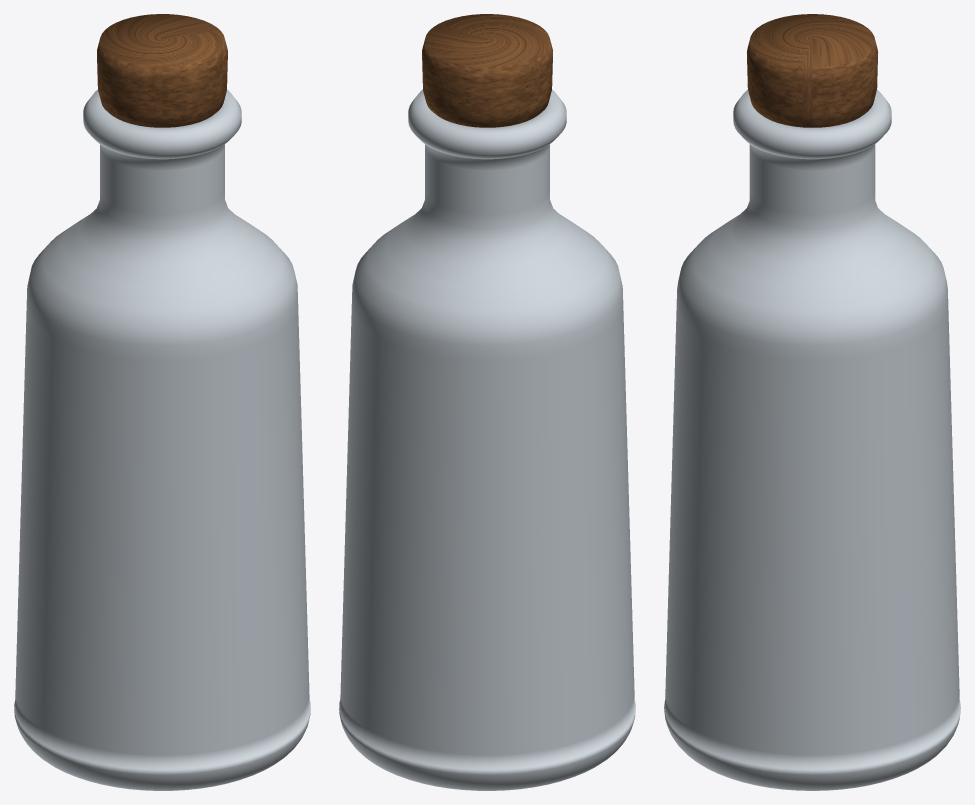
Rendered from bottle_jar.glb.
3 renders of one model, left to right at view 1: azimuth 30°, elevation 25°; view 2: azimuth 150°, elevation 25°; view 3: azimuth 270°, elevation 25°, orthographic.
Visible parts, largest first — view 1: Glass, Cork; view 2: Glass, Cork; view 3: Glass, Cork.
Boxes of the visible parts, left/top/right/bottom form: Glass: left=14, top=89, right=310, bottom=790; Cork: left=97, top=14, right=227, bottom=127; Glass: left=339, top=89, right=635, bottom=790; Cork: left=422, top=14, right=552, bottom=127; Glass: left=664, top=89, right=960, bottom=790; Cork: left=746, top=14, right=878, bottom=127.
Size of the model in its own units: 0.9 by 2.35 by 0.9.
2 materials, 1 textured.
